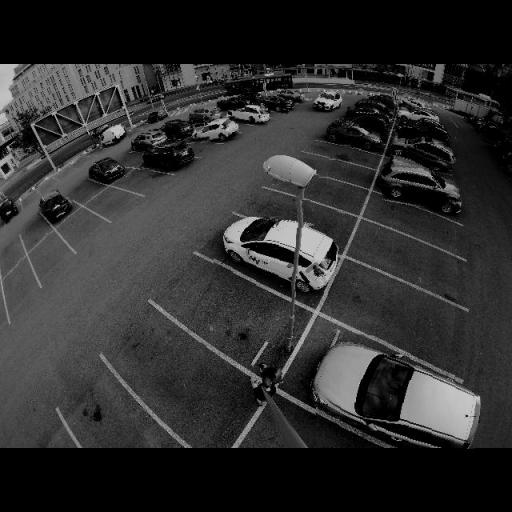busy: (316, 334, 479, 448), (214, 209, 344, 292), (379, 157, 459, 211), (390, 134, 456, 170), (142, 140, 194, 172), (326, 124, 380, 151), (342, 114, 391, 140), (196, 117, 240, 144), (398, 123, 452, 144), (39, 188, 73, 220), (228, 102, 270, 127), (88, 156, 126, 183), (132, 129, 166, 153), (97, 125, 129, 149), (350, 97, 388, 117), (479, 122, 508, 144), (313, 92, 343, 113), (347, 104, 384, 120), (402, 95, 434, 113), (402, 108, 438, 124), (0, 196, 22, 222), (190, 105, 222, 122), (165, 120, 195, 138), (260, 96, 290, 114), (216, 95, 246, 111), (276, 90, 306, 104), (146, 110, 169, 124)
free: (135, 344, 209, 395), (187, 283, 248, 328), (356, 288, 420, 330), (83, 408, 146, 448), (274, 196, 314, 230), (384, 242, 422, 270), (390, 206, 424, 229), (300, 178, 334, 200), (186, 137, 212, 161), (36, 244, 64, 266), (20, 220, 49, 241), (0, 244, 22, 270), (6, 274, 30, 297), (118, 148, 141, 169), (67, 181, 95, 198), (316, 160, 342, 178), (67, 216, 93, 234), (96, 192, 120, 210), (233, 117, 255, 136), (126, 170, 152, 186), (328, 145, 352, 161), (36, 180, 60, 193), (56, 167, 76, 182), (72, 156, 90, 170)
